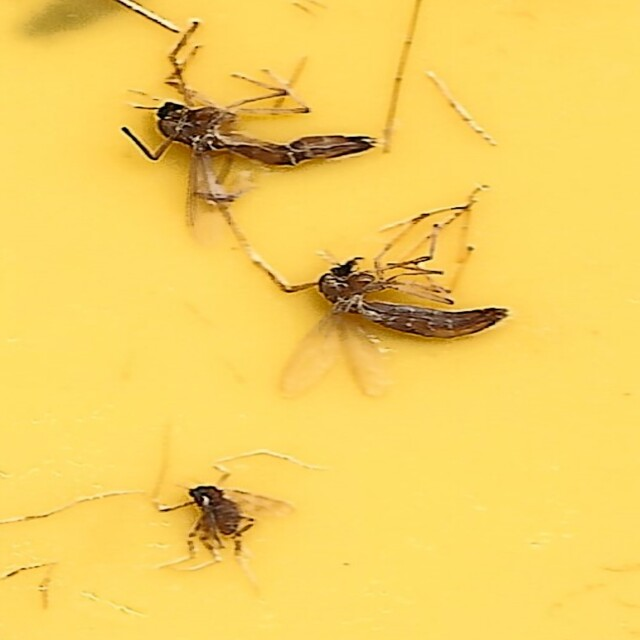Nematocera: (252, 241, 514, 403), (126, 84, 378, 233), (178, 481, 290, 556)
